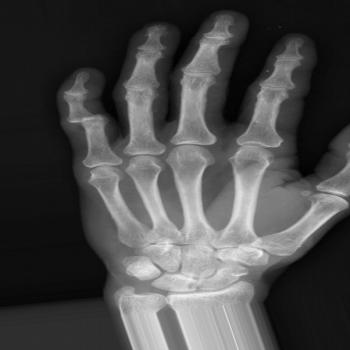Fracture: (62, 110, 108, 128)
